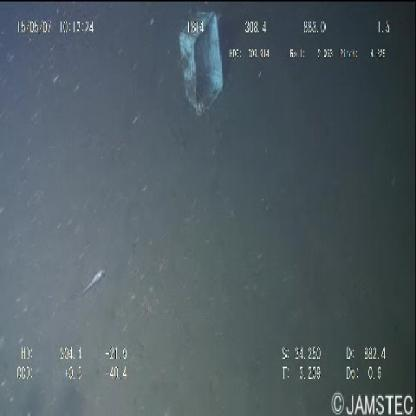Rác: (176, 3, 227, 128)
